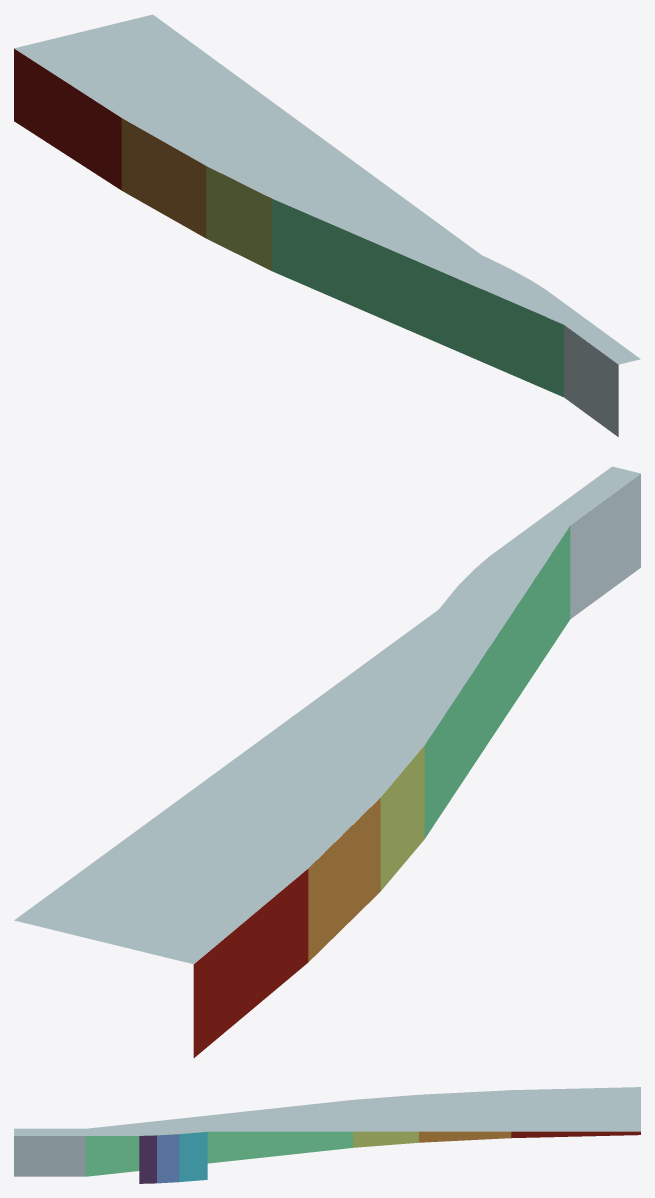
Rendered from scramjet_n4_m4.glb.
3 renders of one model, top to bottom at view 1: azimuth 30°, elevation 25°; view 2: azimuth 150°, elevation 25°; view 3: azimuth 270°, elevation 25°, orthographic. The views are drawn at different scales.
Parts seen in each view (by area): view 1: mesh0; view 2: mesh0; view 3: mesh0.
Boxes of the visible parts, box(x1,y1,x2,y2) form: mesh0: box(14, 14, 640, 436); mesh0: box(14, 466, 640, 1057); mesh0: box(14, 1087, 640, 1183).
Bounding box in the file's own units: 1.09 × 0.5007 × 5.92.
